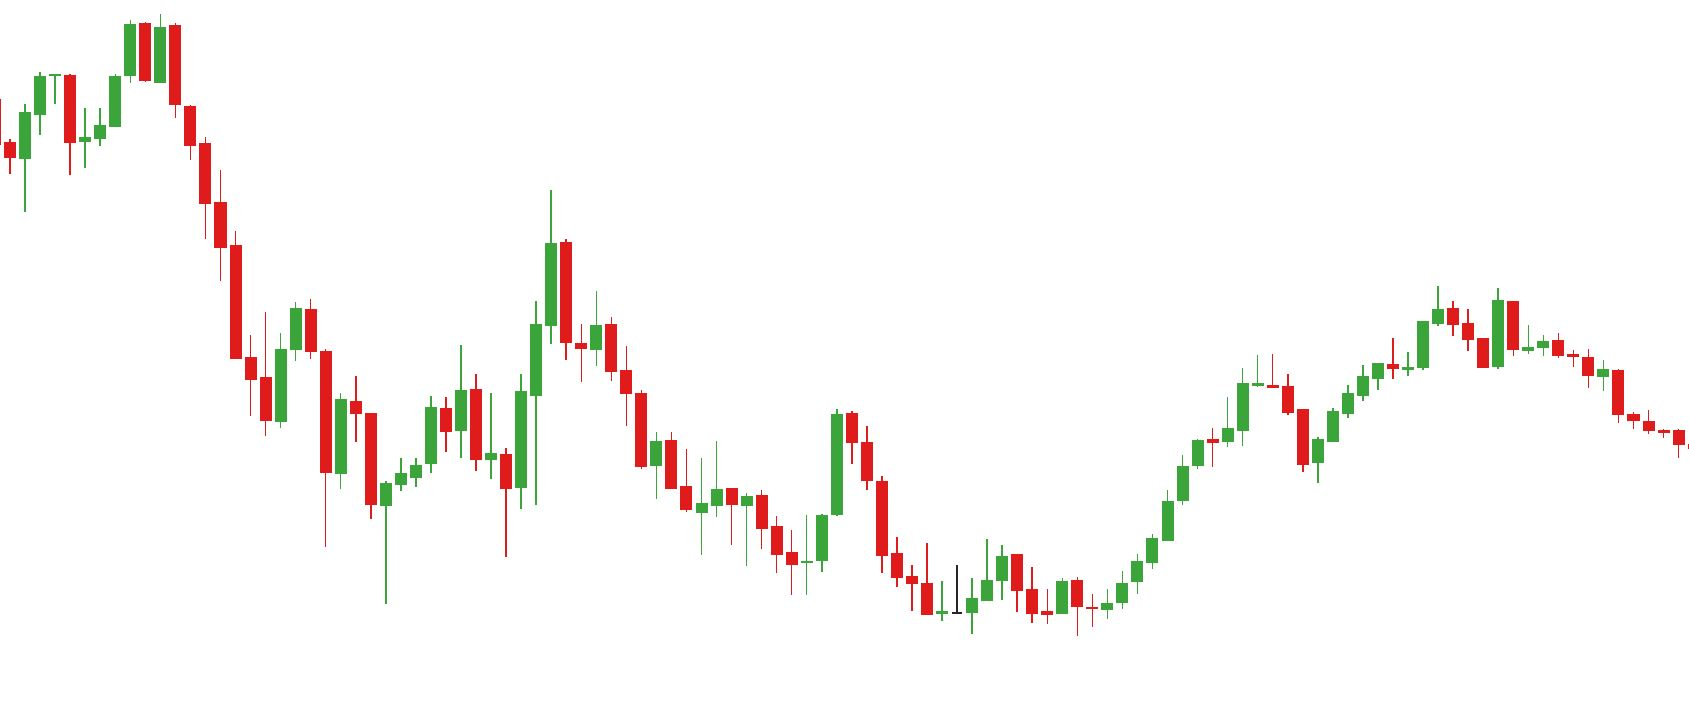buy: (1208, 402, 1327, 483)
sell: (288, 191, 575, 446), (710, 406, 859, 527), (32, 18, 154, 140)
